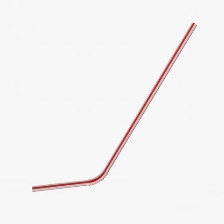drinking_straw: (29, 20, 199, 197)
